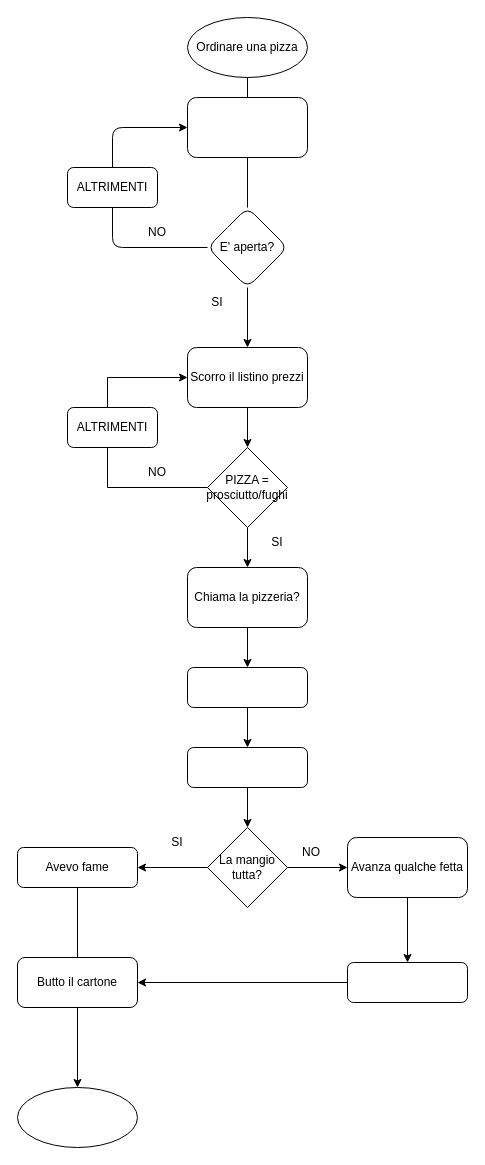
Image size: 485x1165. Some labels were removed from this diagram. The shapes that lost their labels are listed below. From the top down, each one's centre as x and y in pixels, then its label:
At (x=247, y=127): "Scelta la pizzeria".
At (x=247, y=687): "Ordina la pizza".
At (x=247, y=767): "Arriva la pizza fumante".
At (x=407, y=982): "La metto in frigo".
At (x=77, y=1117): "FINE".
